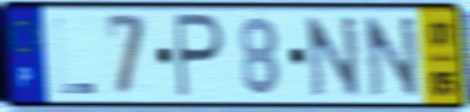7: (103, 12, 153, 100)
8: (237, 15, 284, 98)
L: (51, 15, 99, 97)
N: (302, 13, 364, 100), (360, 13, 422, 100)
P: (172, 11, 228, 102)
